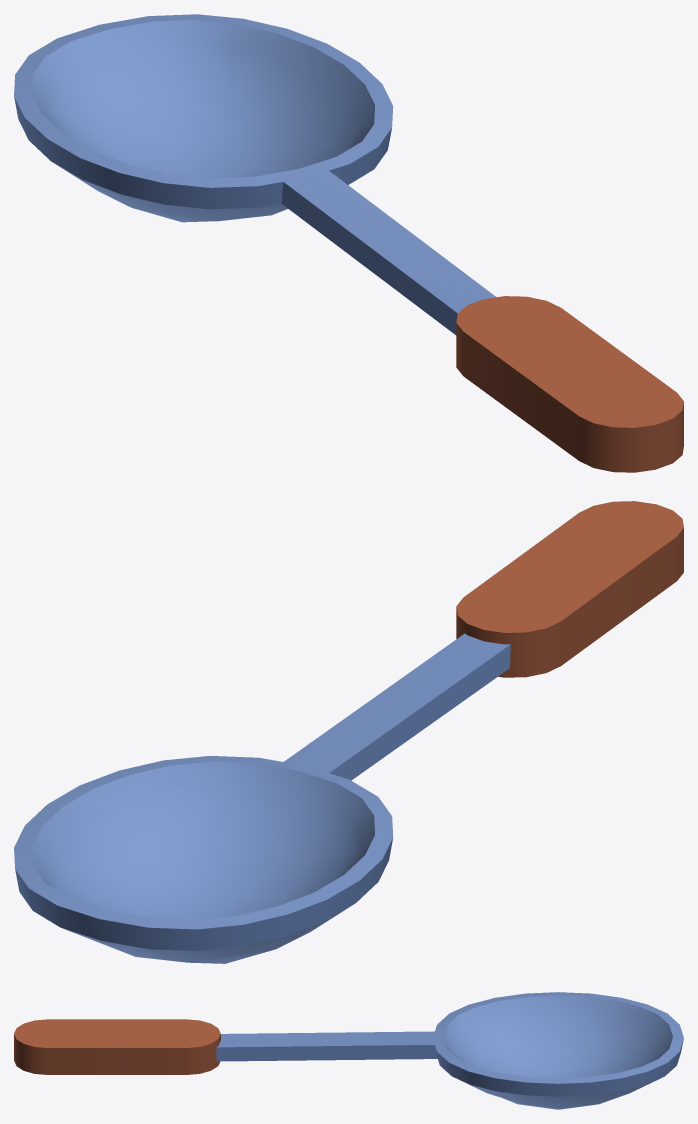
Rendered from Scoop A.fbx.
The picture shows the model from 3 angles, top to bottom: view 1: azimuth 30°, elevation 25°; view 2: azimuth 150°, elevation 25°; view 3: azimuth 270°, elevation 25°; orthographic projection. The views are drawn at different scales.
Parts seen in each view (by area): view 1: Cylinder.051; view 2: Cylinder.051; view 3: Cylinder.051.
Boxes of the visible parts, x1=… form: Cylinder.051: x1=14, y1=14, x2=683, y2=472; Cylinder.051: x1=14, y1=501, x2=683, y2=963; Cylinder.051: x1=14, y1=992, x2=683, y2=1109.
Bounding box in the file's own units: 0.2399 × 0.0796 × 0.7406.
